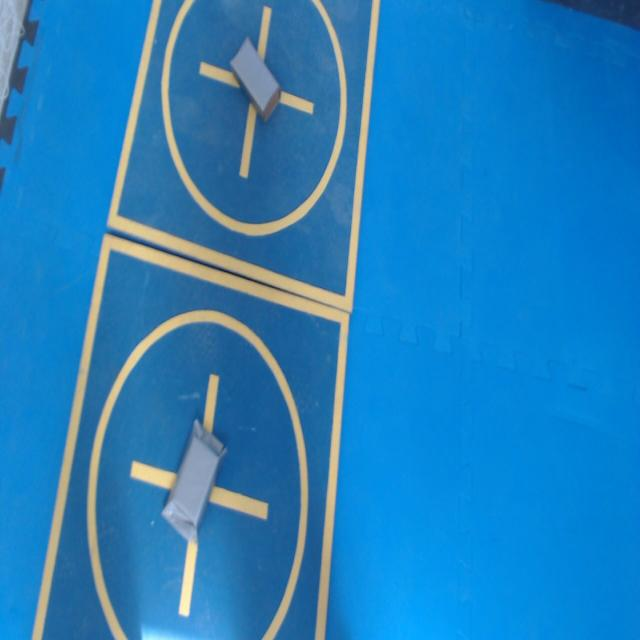lipo: (162, 420, 225, 541), (231, 37, 280, 119)
